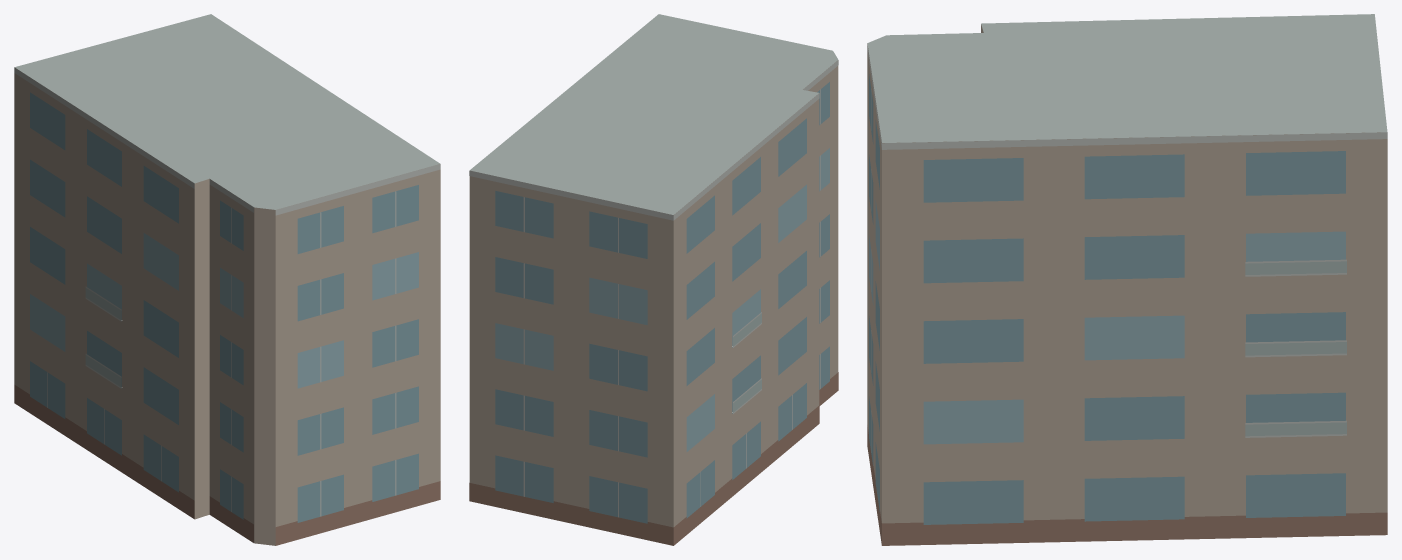
Rendered from survey-upis-32885772.glb.
3 renders of one model, left to right at view 1: azimuth 30°, elevation 25°; view 2: azimuth 150°, elevation 25°; view 3: azimuth 270°, elevation 25°, orthographic. The views are drawn at different scales.
Parts seen in each view (by area): view 1: survey-upis-32885772.tmp; view 2: survey-upis-32885772.tmp; view 3: survey-upis-32885772.tmp.
Boxes of the visible parts, <box> form: survey-upis-32885772.tmp: <box>14,14,440,545</box>; survey-upis-32885772.tmp: <box>469,14,838,545</box>; survey-upis-32885772.tmp: <box>867,14,1387,545</box>.
Size of the model in its own units: 9.91 by 14.4 by 16.86.
